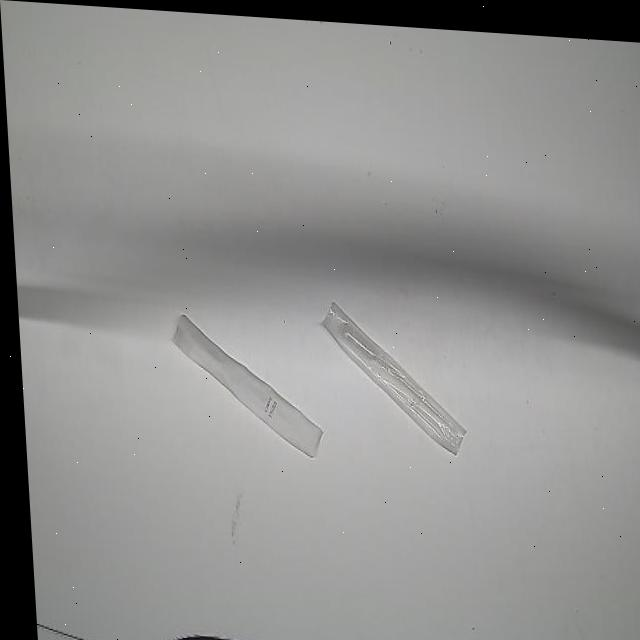Disposable Pasteur Pipette: (315, 290, 466, 452), (167, 310, 321, 459)
